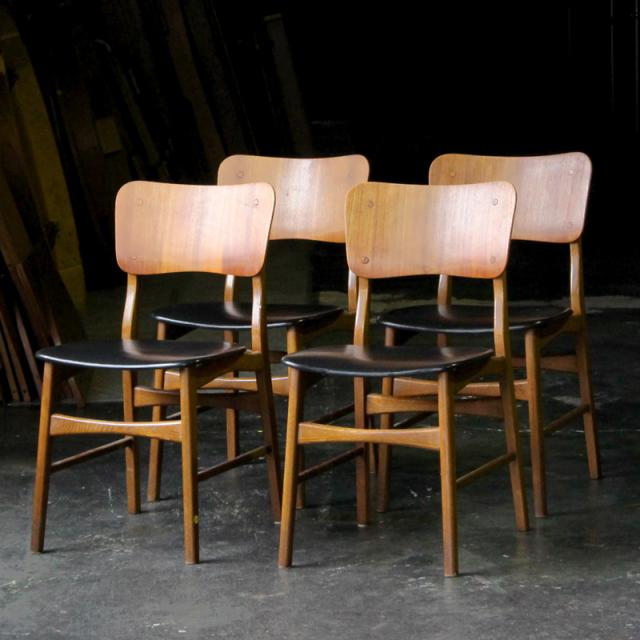chair vintage: (280, 179, 532, 575)
